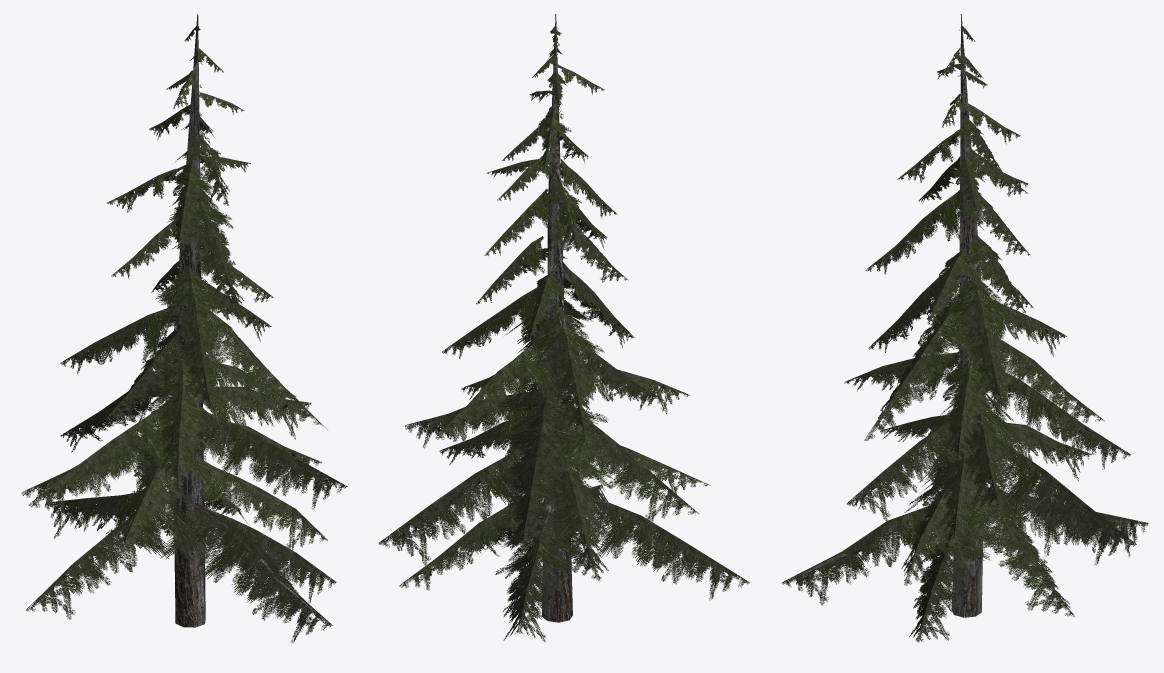
Rendered from fir_tree.obj.
3 views of the same model, side by side, from view 1: azimuth 30°, elevation 25°; view 2: azimuth 150°, elevation 25°; view 3: azimuth 270°, elevation 25° (orthographic).
Parts seen in each view (by area): view 1: Cube.1748_Cube.3115; view 2: Cube.1748_Cube.3115; view 3: Cube.1748_Cube.3115.
Boxes of the visible parts, box(x1,y1,x2,y2) form: Cube.1748_Cube.3115: box(21, 14, 347, 642); Cube.1748_Cube.3115: box(379, 14, 749, 642); Cube.1748_Cube.3115: box(781, 14, 1148, 642).
Size of the model in its own units: 15.5 by 27.63 by 15.45.
